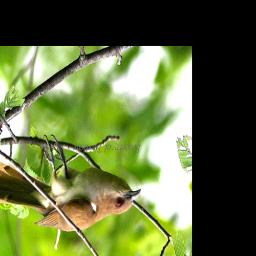Cuckoo: (0, 135, 142, 232)
